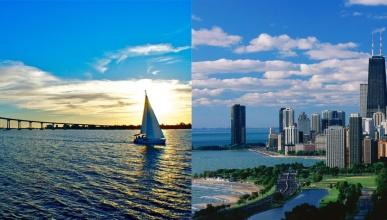fanchuan: (127, 85, 175, 150)
